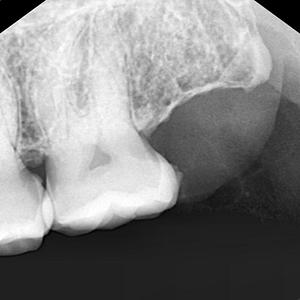tooth: (42, 30, 182, 232), (0, 52, 51, 256)
